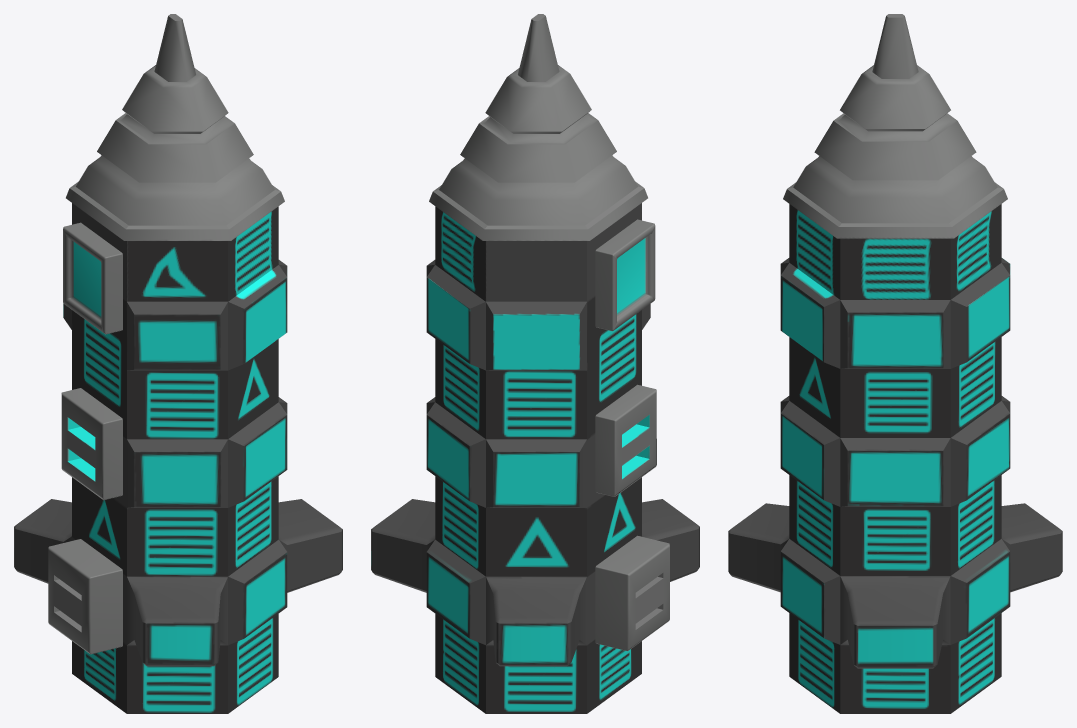
The model's file is SM_Props_12.fbx.
3 views of the same model, side by side, from view 1: azimuth 30°, elevation 25°; view 2: azimuth 150°, elevation 25°; view 3: azimuth 270°, elevation 25° (orthographic).
Parts seen in each view (by area): view 1: SM_Props_12; view 2: SM_Props_12; view 3: SM_Props_12.
Part boxes in pixels (left/top/right/bottom): SM_Props_12: left=14, top=14, right=342, bottom=713; SM_Props_12: left=371, top=14, right=699, bottom=713; SM_Props_12: left=728, top=14, right=1062, bottom=713.
Bounding box in the file's own units: 51.74 × 57.76 × 126.
